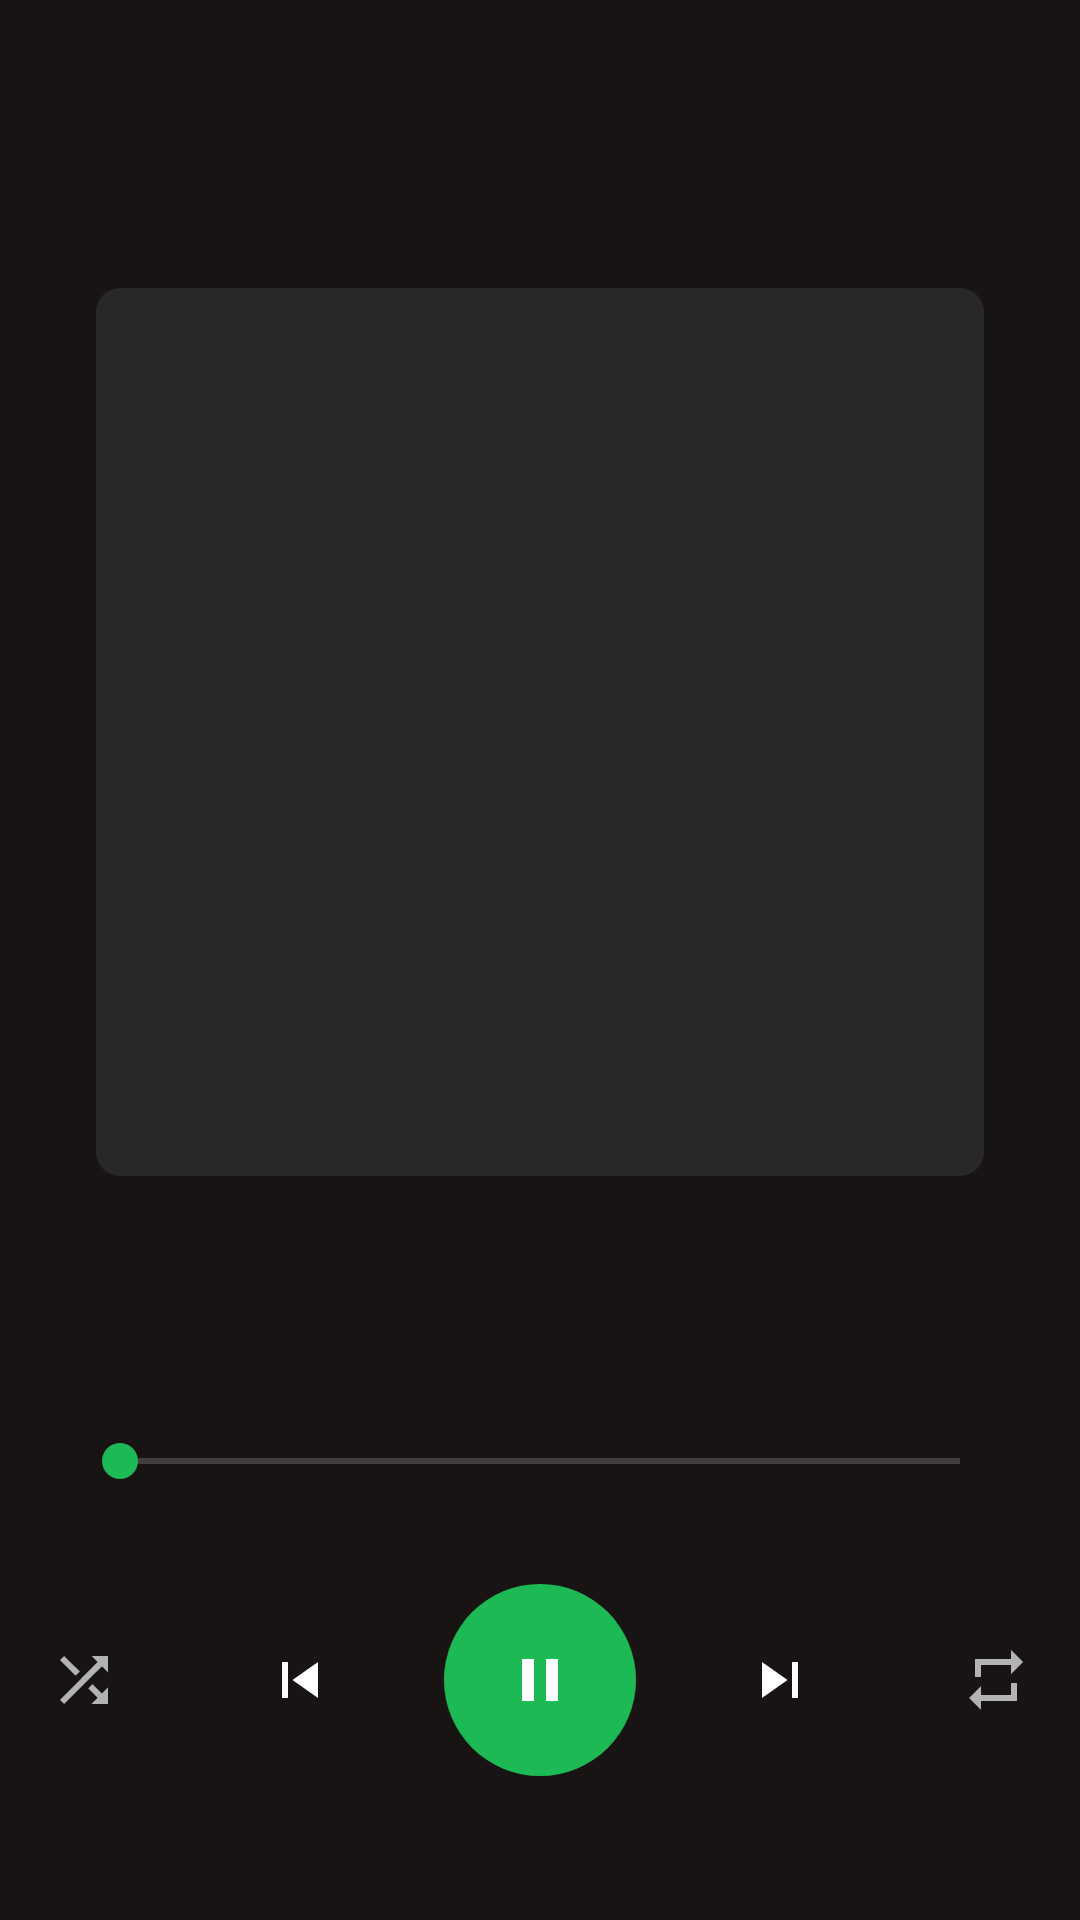

Point at icon controls on the screen. Image size 1080×1920, points as point (x, y).
Next: point (780, 1680)
Play/Pause: point (540, 1680)
Previous: point (300, 1680)
Repeat: point (996, 1680)
Shuffle: point (84, 1680)
